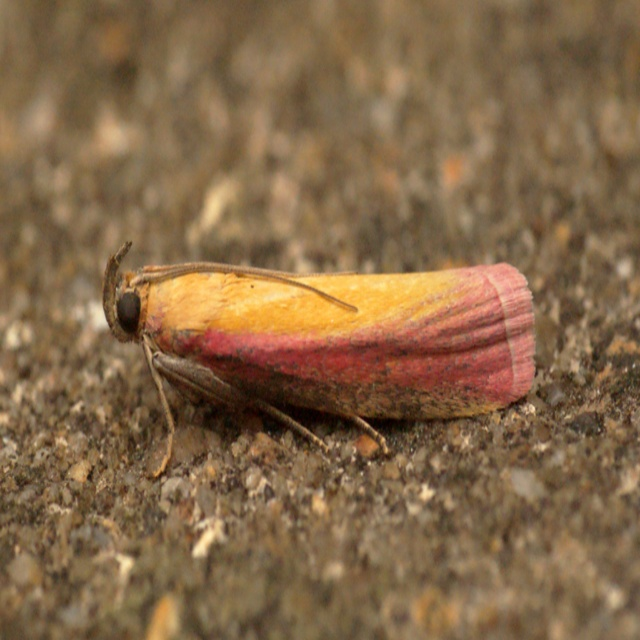Moths and butterflies: (102, 242, 538, 485)
